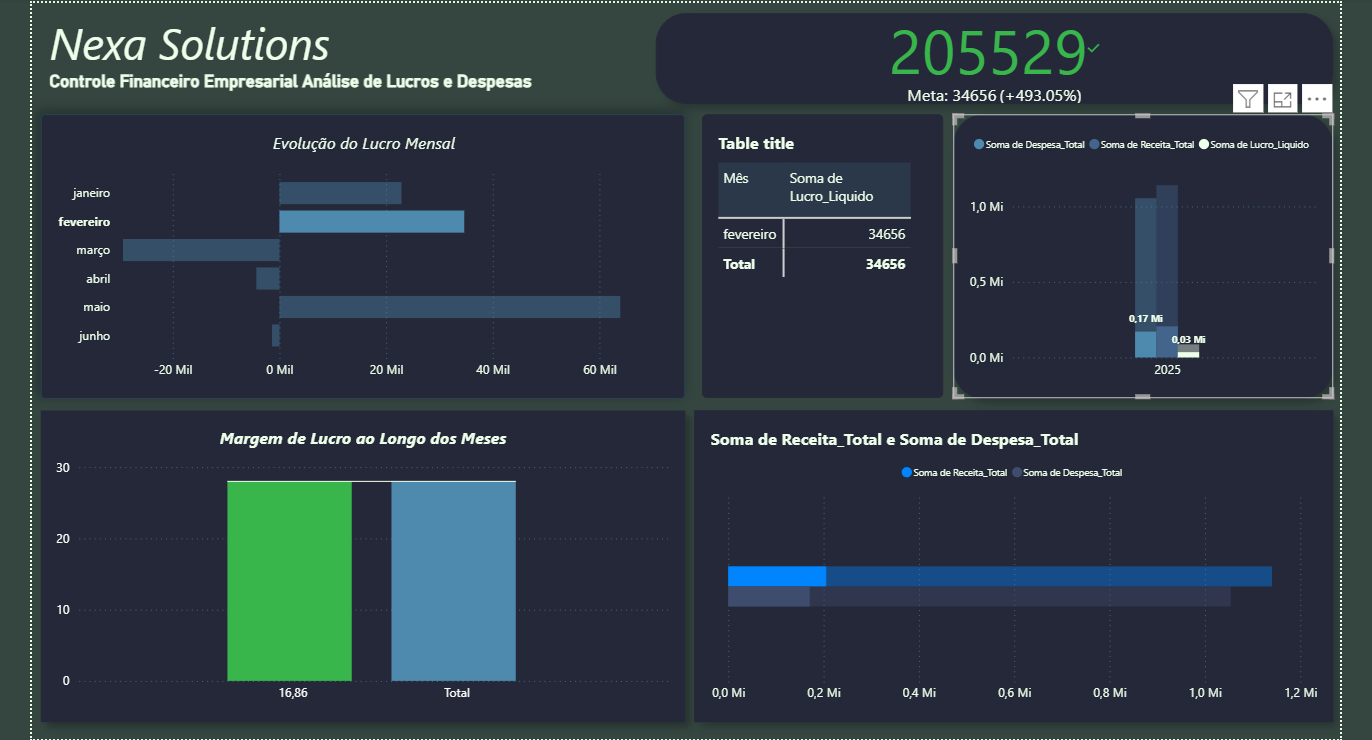

The dashboard page shown, as its layout file describes it:
{"tool":"powerbi","page":{"name":"Página 1","canvas":[1280,720],"ordinal":0},"visuals":[{"type":"barChart","title":"Evolução do Lucro Mensal","fields":{"Category":["Sheet1.Mes_Ano.Variation.Hierarquia de datas.Mês"],"Y":["Sum(Sheet1.Lucro_Liquido)"]},"box":[9.1,108.3,630.7,278.4],"z":0},{"type":"clusteredBarChart","fields":{"Y":["Sum(Sheet1.Receita_Total)","Sum(Sheet1.Despesa_Total)"]},"box":[647.9,398.9,624.6,304.7],"z":1},{"type":"kpi","fields":{"Indicator":["Sum(Sheet1.Receita_Total)"],"TrendLine":["Sheet1.Despesa_Total"],"Goal":["Sum(Sheet1.Lucro_Liquido)"]},"box":[610.4,10.1,662.1,89.1],"z":2},{"type":"waterfallChart","title":"Margem de Lucro ao Longo dos Meses","fields":{"Category":["Sheet1.Margem_Lucro_%"],"Y":["CountNonNull(Sheet1.Mes_Ano.Variation.Hierarquia de datas.Ano)"]},"box":[9.1,398.9,630.7,304.7],"z":3},{"type":"clusteredColumnChart","fields":{"Category":["Sheet1.Mes_Ano.Variation.Hierarquia de datas.Ano"],"Y":["Sum(Sheet1.Despesa_Total)","Sum(Sheet1.Receita_Total)","Sum(Sheet1.Lucro_Liquido)"]},"box":[901,108.3,371.5,278.4],"z":4},{"type":"pivotTable","fields":{"Rows":["Sheet1.Mes_Ano.Variation.Hierarquia de datas.Mês"],"Values":["Sum(Sheet1.Lucro_Liquido)"]},"box":[655,108.3,235.9,277.4],"z":5},{"type":"textbox","box":[17.2,10.1,593.2,89.1],"z":6}]}

Visuals, with their boxes on the page's 1280x720 design canvas (x1, y1, x2, y2). These are canvas units, not pixel positions in the 1372x740 screenshot, which may show the page scaled, cropped or inside an application window:
"Evolução do Lucro Mensal" barChart: box=[9, 108, 640, 387]
clusteredBarChart - Sum(Sheet1.Receita_Total) x Sum(Sheet1.Despesa_Total): box=[648, 399, 1272, 704]
kpi - Sum(Sheet1.Receita_Total) x Sheet1.Despesa_Total: box=[610, 10, 1272, 99]
"Margem de Lucro ao Longo dos Meses" waterfallChart: box=[9, 399, 640, 704]
clusteredColumnChart - Sheet1.Mes_Ano.Variation.Hierarquia de datas.Ano x Sum(Sheet1.Despesa_Total): box=[901, 108, 1272, 387]
pivotTable - Sheet1.Mes_Ano.Variation.Hierarquia de datas.Mês x Sum(Sheet1.Lucro_Liquido): box=[655, 108, 891, 386]
textbox: box=[17, 10, 610, 99]
